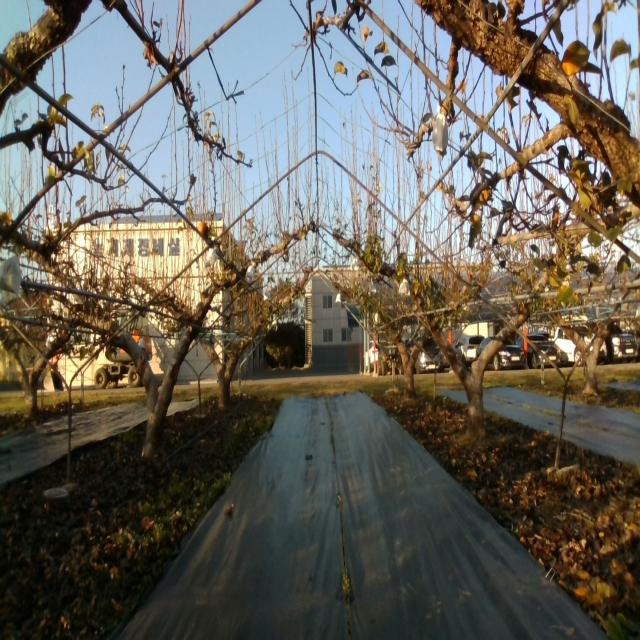pearbags: (0, 254, 22, 299), (432, 105, 448, 162), (204, 248, 217, 267), (398, 278, 411, 297)
